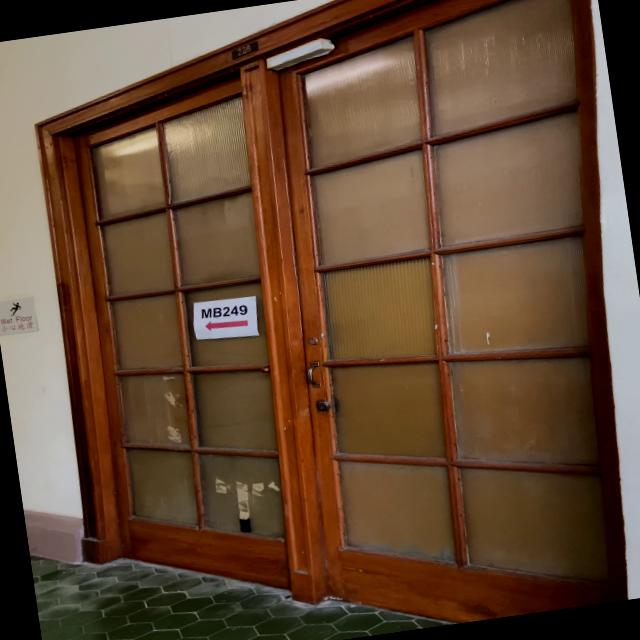room228: (228, 40, 262, 60)
